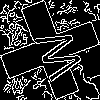W: (25, 25, 85, 87)
